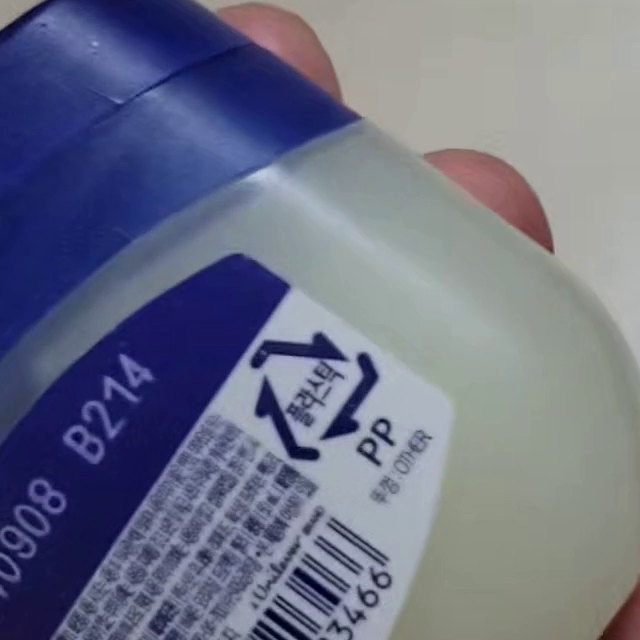Plastic: (251, 329, 379, 459)
